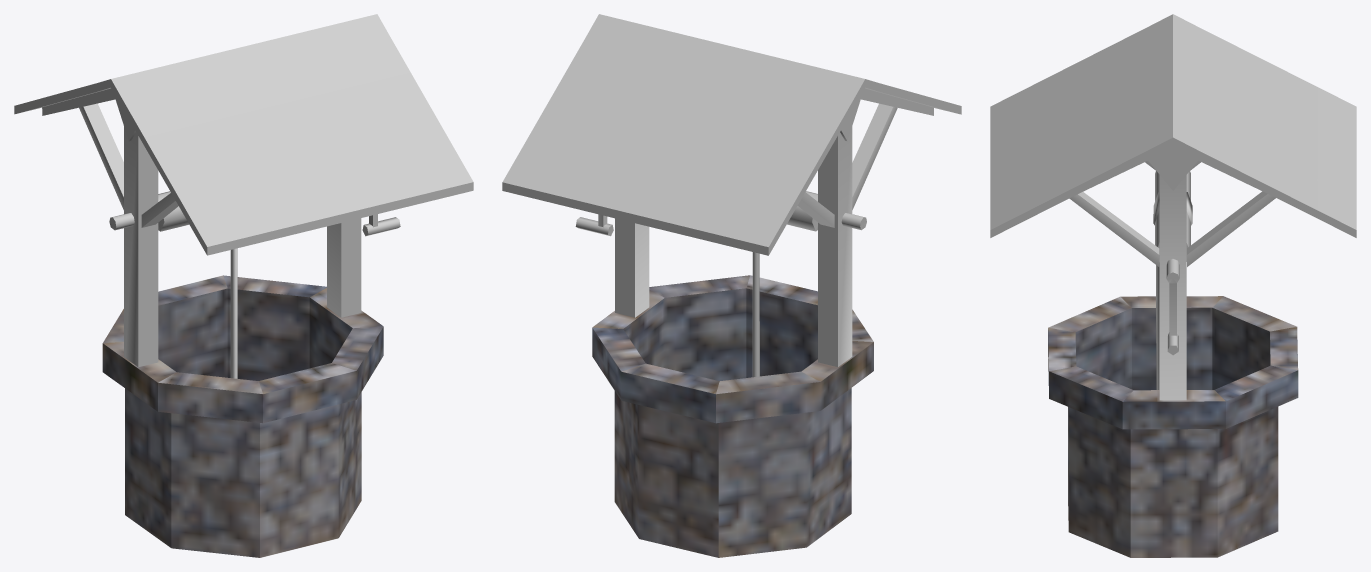
The model's file is MS_Well.fbx.
3 renders of one model, left to right at view 1: azimuth 30°, elevation 25°; view 2: azimuth 150°, elevation 25°; view 3: azimuth 270°, elevation 25°, orthographic. The views are drawn at different scales.
Visible parts, largest first — view 1: MSH_Well.001; view 2: MSH_Well.001; view 3: MSH_Well.001.
Part boxes in pixels (x1,y1,x2,y2): MSH_Well.001: (14, 14, 473, 557); MSH_Well.001: (502, 14, 961, 557); MSH_Well.001: (990, 14, 1356, 557).
Bounding box in the file's own units: 139 × 213 × 162.
